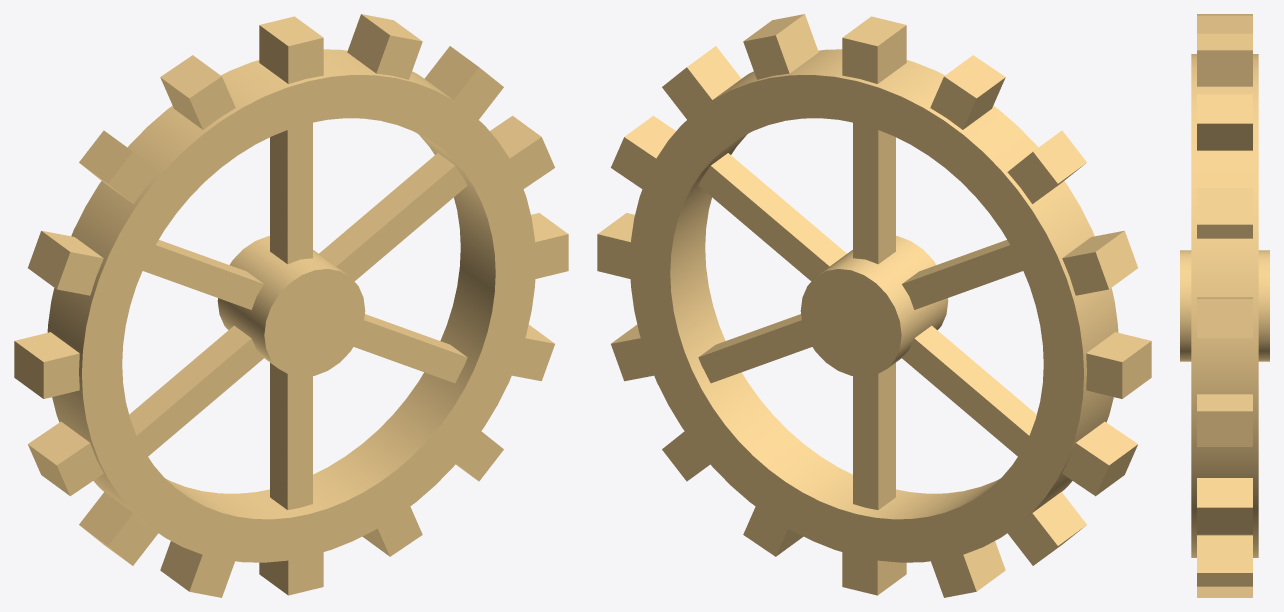
The model's file is HubGear.gltf.
The picture shows the model from 3 angles, left to right: view 1: azimuth 30°, elevation 25°; view 2: azimuth 150°, elevation 25°; view 3: azimuth 270°, elevation 25°; orthographic projection. The views are drawn at different scales.
Parts seen in each view (by area): view 1: HubGear; view 2: HubGear; view 3: HubGear.
Boxes of the visible parts, left/top/right/bottom form: HubGear: left=14, top=14, right=568, bottom=597; HubGear: left=597, top=14, right=1151, bottom=597; HubGear: left=1180, top=14, right=1269, bottom=597.
Size of the model in its own units: 2.08 by 2.08 by 0.32.
